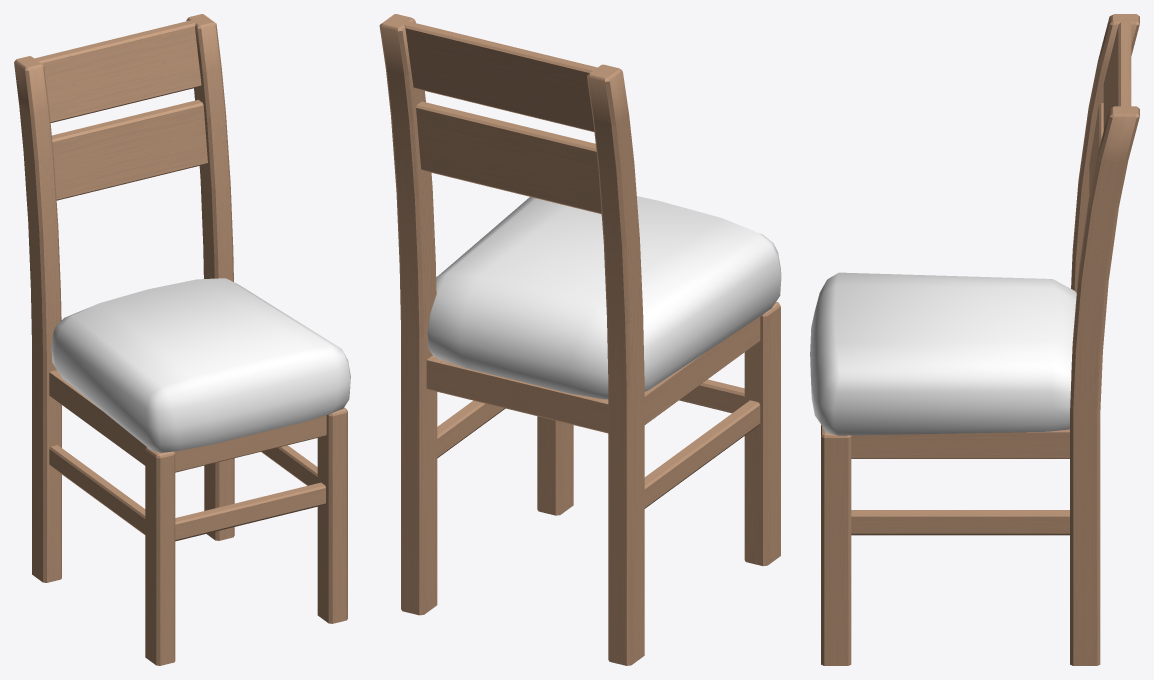
The model's file is chair_2.glb.
The picture shows the model from 3 angles, left to right: view 1: azimuth 30°, elevation 25°; view 2: azimuth 150°, elevation 25°; view 3: azimuth 270°, elevation 25°; orthographic projection. The views are drawn at different scales.
Parts seen in each view (by area): view 1: chair 2, cushion; view 2: chair 2, cushion; view 3: chair 2, cushion.
Part boxes in pixels (bbox=[...]): chair 2: bbox=[14, 14, 347, 665]; cushion: bbox=[51, 278, 350, 452]; chair 2: bbox=[379, 14, 780, 665]; cushion: bbox=[427, 196, 781, 399]; chair 2: bbox=[821, 14, 1139, 665]; cushion: bbox=[810, 272, 1076, 435].
Size of the model in its own units: 0.8511 by 2 by 1.09.
Materials: 2 (1 with a texture image).
